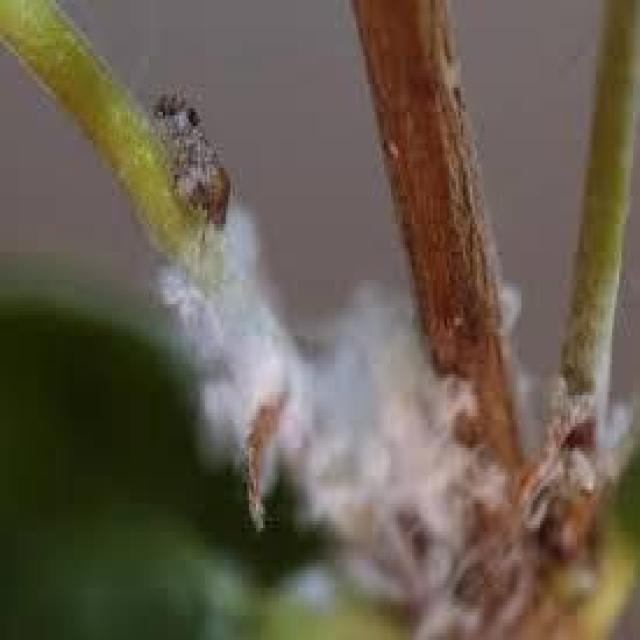Psyllid: (158, 193, 516, 636)
